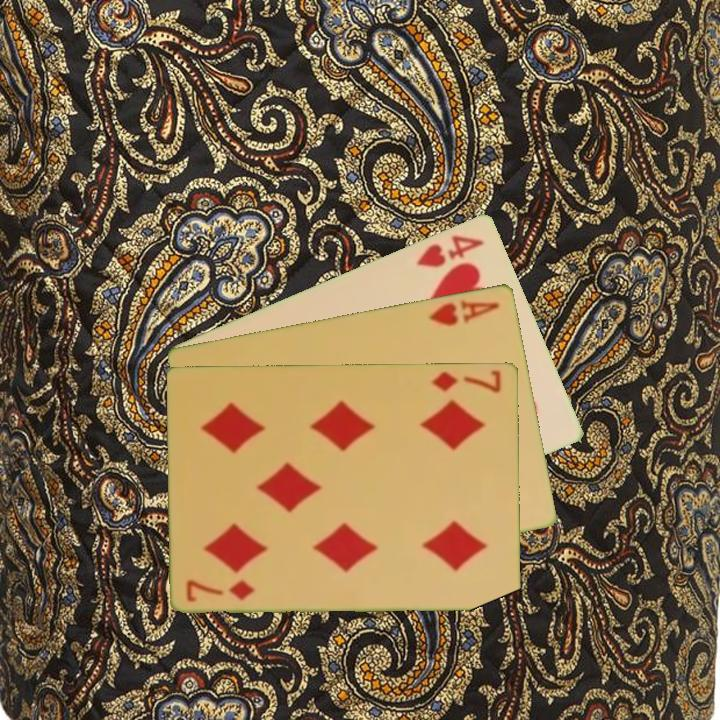4h: (413, 230, 487, 270)
7d: (429, 366, 504, 395), (183, 576, 258, 605)
Ah: (425, 295, 503, 328)
